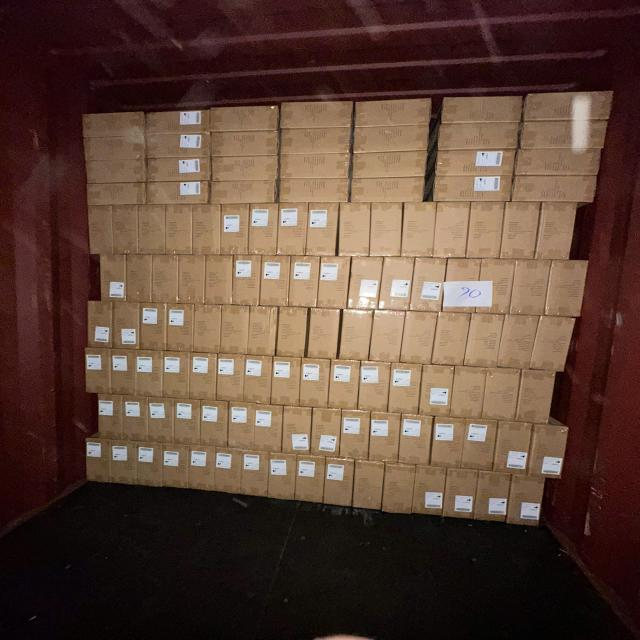Carton: (523, 87, 614, 121), (519, 120, 613, 152), (515, 145, 604, 177), (513, 176, 600, 207), (532, 316, 578, 374), (545, 260, 589, 318), (437, 122, 521, 152), (538, 200, 579, 260), (441, 93, 524, 122), (436, 150, 517, 179), (355, 125, 433, 155), (436, 178, 518, 206), (352, 96, 431, 125), (503, 201, 541, 260), (280, 101, 354, 130), (501, 313, 540, 368), (518, 368, 556, 424), (512, 259, 550, 315), (528, 424, 566, 480), (469, 201, 505, 260), (465, 314, 503, 369), (352, 153, 428, 180), (349, 180, 425, 207), (496, 422, 532, 478), (278, 180, 350, 208), (478, 260, 515, 314), (279, 129, 352, 156), (402, 202, 437, 258), (435, 202, 470, 258), (211, 104, 281, 132), (484, 367, 520, 421), (280, 154, 352, 181), (210, 131, 279, 159), (444, 259, 479, 314), (508, 478, 547, 527), (210, 154, 278, 182), (81, 111, 145, 140), (403, 313, 438, 366), (148, 110, 214, 138), (436, 314, 470, 368), (82, 134, 147, 162), (148, 132, 215, 159), (476, 471, 510, 524), (452, 366, 486, 419), (370, 203, 403, 257), (412, 259, 445, 313), (149, 155, 215, 182), (210, 182, 278, 208), (378, 258, 410, 313), (420, 365, 453, 418), (462, 420, 496, 471), (307, 205, 339, 259), (349, 258, 381, 312), (339, 205, 371, 259), (372, 312, 405, 364), (400, 414, 433, 466), (388, 364, 421, 416), (444, 469, 477, 521), (85, 182, 146, 210), (84, 158, 147, 185), (147, 180, 212, 206), (321, 258, 352, 311), (433, 418, 465, 469), (341, 309, 372, 361), (370, 411, 401, 463), (414, 467, 445, 519), (382, 464, 414, 514), (248, 203, 278, 256), (278, 203, 308, 256), (309, 310, 340, 361), (288, 258, 319, 309), (360, 362, 391, 413), (277, 309, 308, 359), (330, 361, 361, 411), (262, 257, 292, 308), (301, 358, 331, 409), (220, 204, 250, 255), (340, 410, 370, 461), (352, 462, 383, 511), (311, 408, 341, 458), (325, 460, 355, 510), (233, 256, 262, 307), (194, 204, 222, 256), (250, 307, 279, 357), (272, 357, 301, 407), (134, 350, 164, 398), (166, 204, 194, 255), (297, 455, 326, 504), (240, 450, 270, 497), (138, 204, 166, 254), (111, 205, 139, 255), (245, 354, 273, 403), (220, 305, 248, 354), (283, 405, 311, 454), (269, 451, 297, 500), (206, 257, 234, 306), (178, 256, 206, 305), (111, 303, 140, 350), (194, 305, 222, 353), (256, 404, 284, 452), (86, 438, 115, 484), (168, 303, 195, 352), (190, 353, 217, 402), (154, 255, 181, 304), (214, 447, 242, 494), (110, 439, 138, 486), (164, 350, 191, 398), (217, 353, 244, 401), (136, 442, 163, 490), (200, 402, 228, 448), (97, 395, 125, 441), (230, 402, 256, 451), (100, 256, 127, 303), (86, 347, 113, 394), (128, 256, 154, 304), (140, 303, 166, 351), (124, 395, 150, 443), (88, 208, 114, 256), (163, 443, 190, 489), (175, 399, 201, 446), (111, 348, 137, 395), (148, 398, 174, 444), (88, 302, 114, 348), (188, 446, 214, 492)
